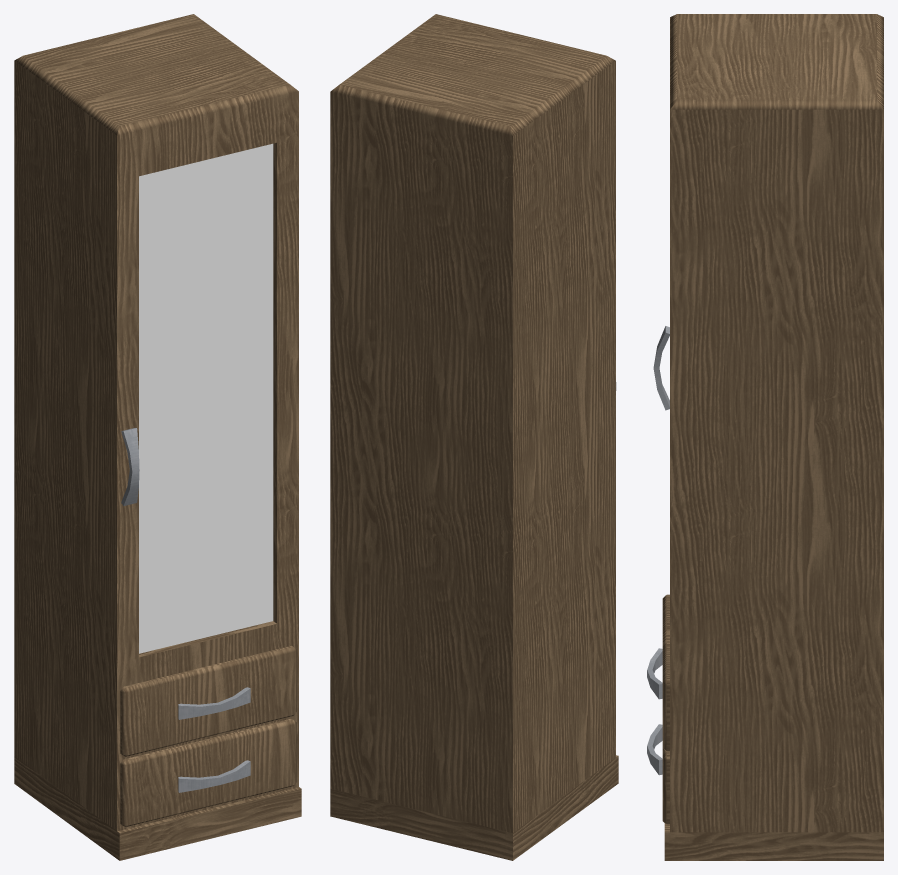
Rendered from wall cabinet_003.fbx.
The picture shows the model from 3 angles, left to right: view 1: azimuth 30°, elevation 25°; view 2: azimuth 150°, elevation 25°; view 3: azimuth 270°, elevation 25°; orthographic projection. The views are drawn at different scales.
Visible parts, largest first — view 1: wall cabinet_003; view 2: wall cabinet_003; view 3: wall cabinet_003.
Boxes of the visible parts, <box> form: wall cabinet_003: <box>14,14,301,860</box>; wall cabinet_003: <box>330,14,618,860</box>; wall cabinet_003: <box>647,14,883,860</box>.
Size of the model in its own units: 72.86 by 78.98 by 279.
